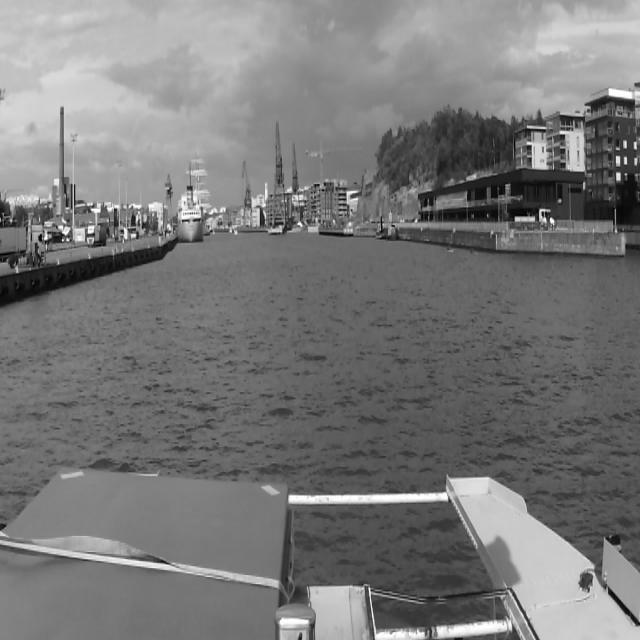ship: (178, 147, 212, 224), (178, 187, 204, 241), (228, 209, 238, 237), (388, 224, 398, 242), (233, 230, 239, 239)
